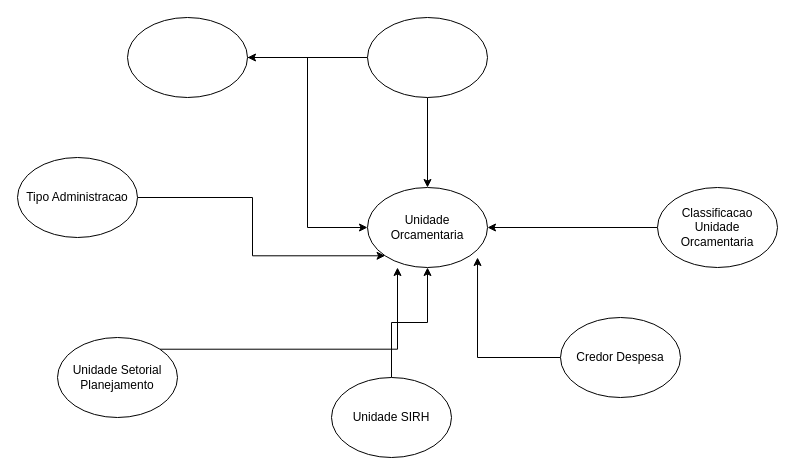
Image size: 795x475. Some labels were removed from this diagram. The shapes that lost their labels are listed below. From the top down, each one's centre as x and y in pixels, then its label:
At point (187, 57): "Orgao Orcamento".
At point (427, 57): "Poder Orcamento".
